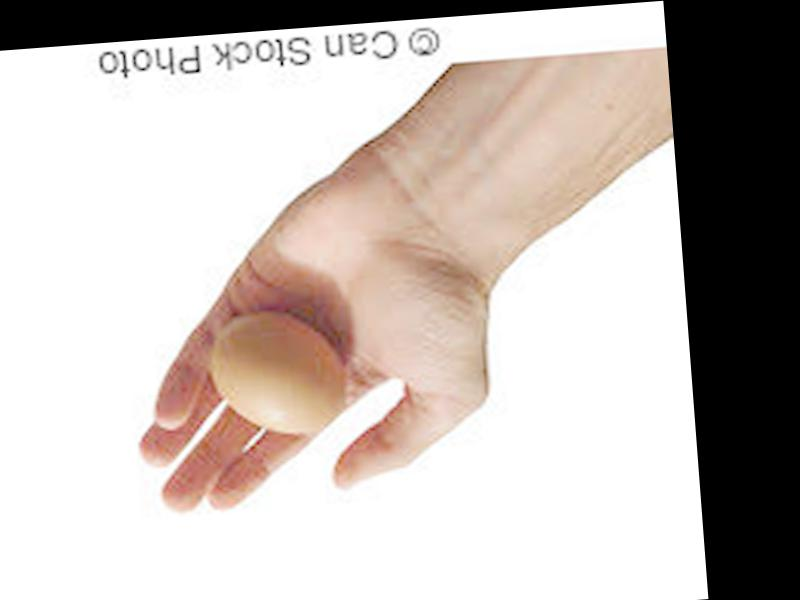Eggs: (205, 308, 343, 435)
